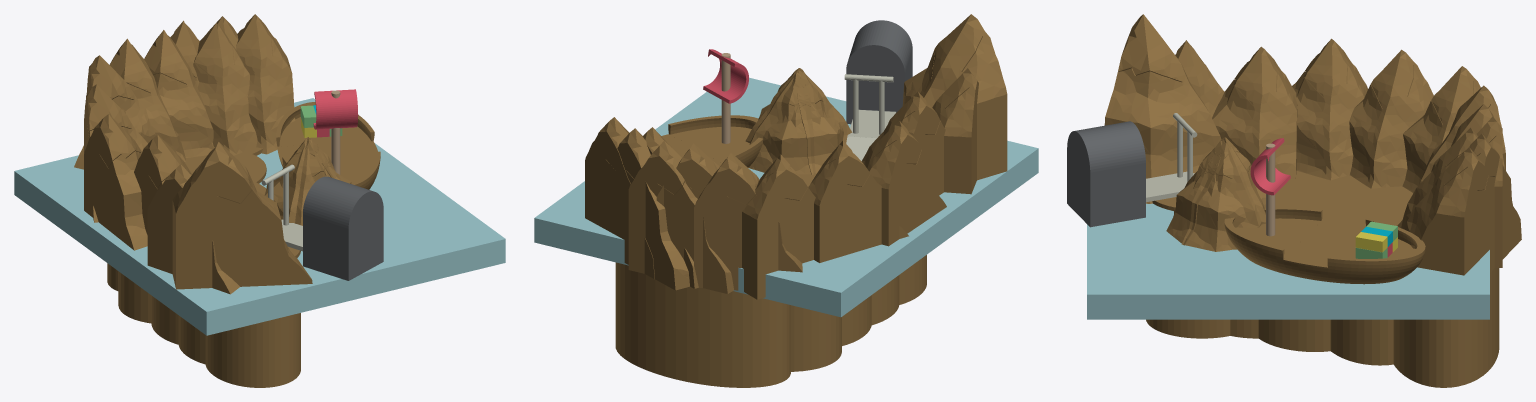
Rendered from liman.glb.
3 views of the same model, side by side, from view 1: azimuth 30°, elevation 25°; view 2: azimuth 150°, elevation 25°; view 3: azimuth 270°, elevation 25° (orthographic). The views are drawn at different scales.
Parts seen in each view (by area): view 1: Mesh_Mesh_head_geo.001_lambert2SG.001; view 2: Mesh_Mesh_head_geo.001_lambert2SG.001; view 3: Mesh_Mesh_head_geo.001_lambert2SG.001.
Boxes of the visible parts, x1,y1,x2,y2 form: Mesh_Mesh_head_geo.001_lambert2SG.001: [14, 14, 505, 387]; Mesh_Mesh_head_geo.001_lambert2SG.001: [534, 14, 1038, 387]; Mesh_Mesh_head_geo.001_lambert2SG.001: [1067, 14, 1521, 387].
Size of the model in its own units: 113 by 94 by 142.
